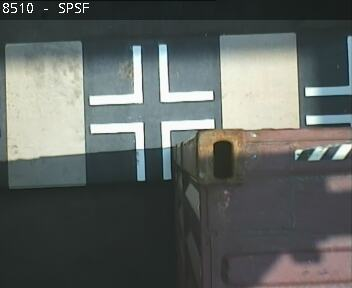groundmarker_1: (89, 118, 215, 180), (87, 45, 213, 106)
